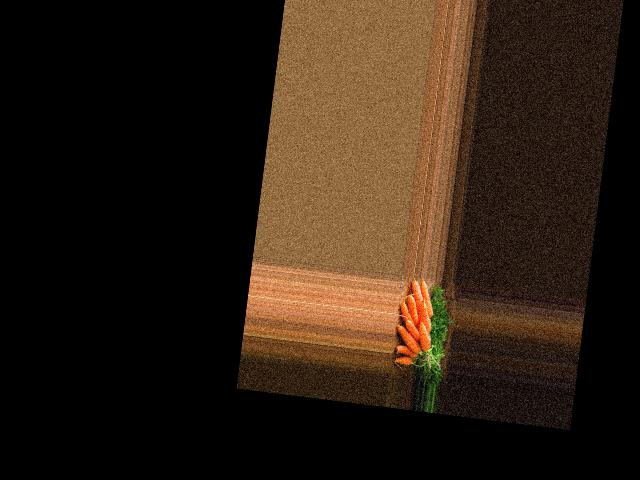carrot: (393, 324, 426, 357)
